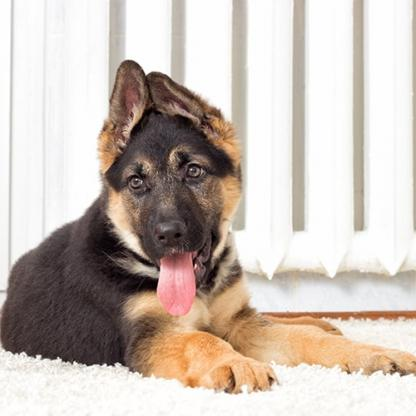dog: (1, 57, 416, 395)
